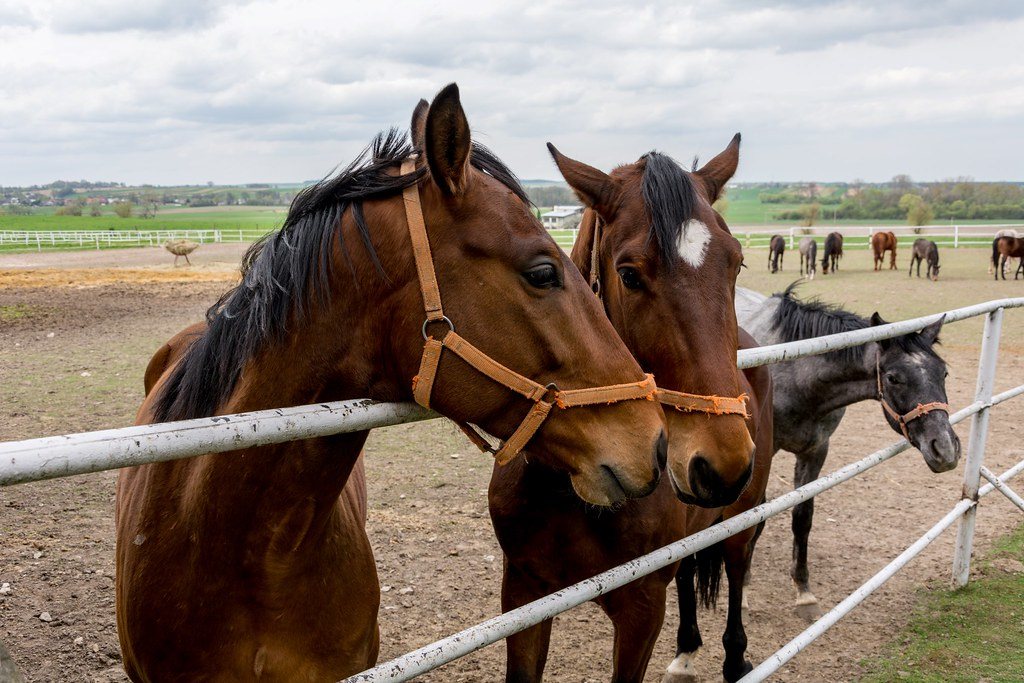horse: (103, 81, 660, 683)
